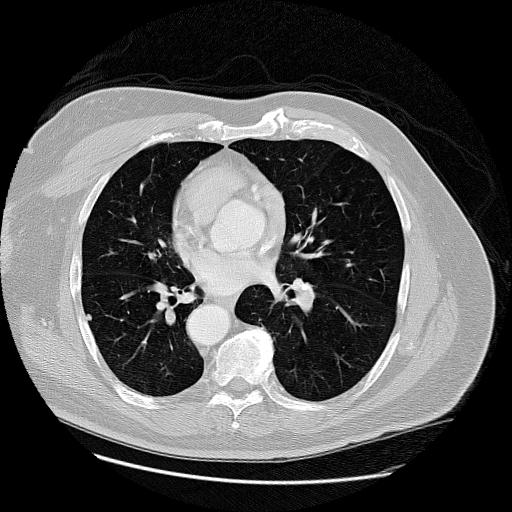nodule: (86, 312, 98, 324)
